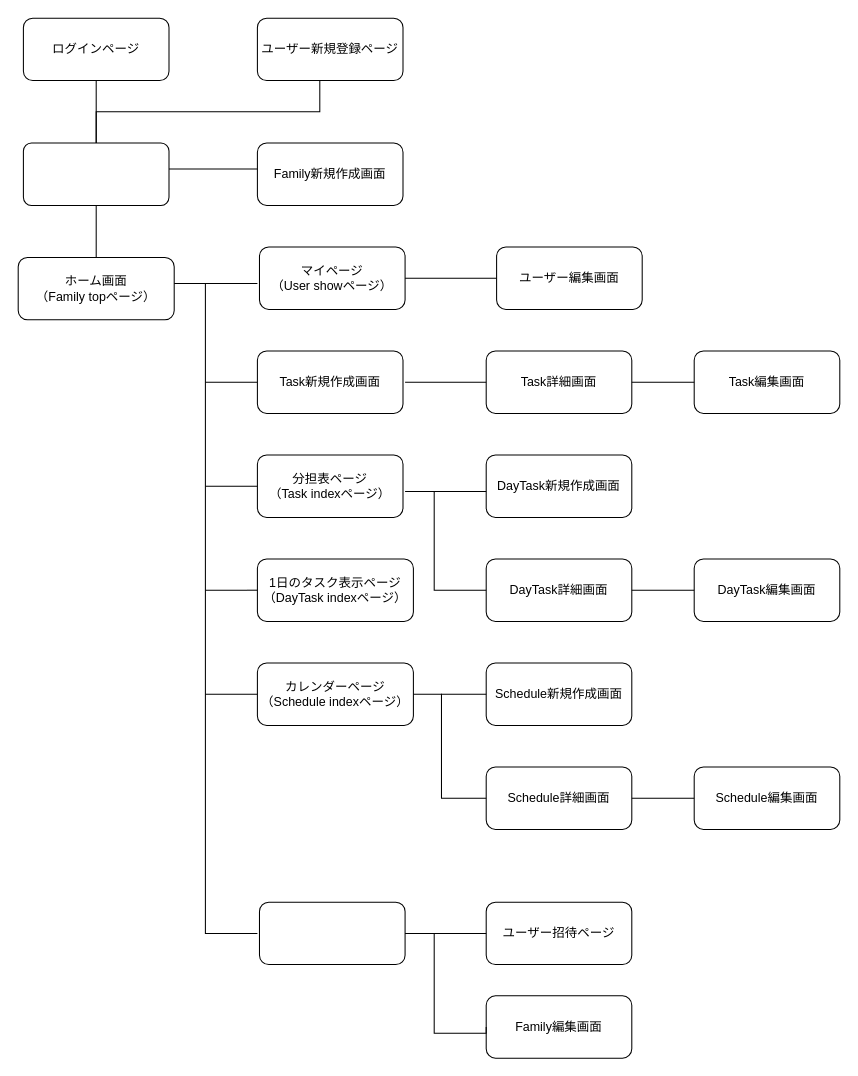
The diagram is 858 pixels wide and 1076 high, and some of its shapes have lost their labels. Here are the shapes that lost their labels. From the top down, the centre of each, then its label:
At (95,173): "所属Family一覧画面 (User indexページ)".
At (331,933): "Family詳細".
